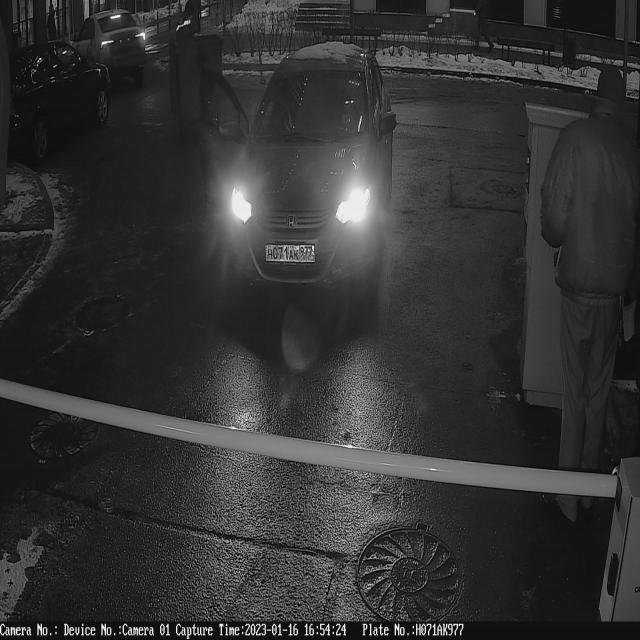car-plate-numbers: (264, 240, 318, 272)
